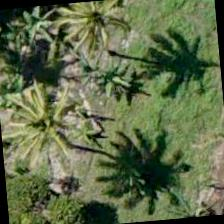Kelapa_Sawit: (0, 68, 87, 166), (51, 0, 147, 70)
